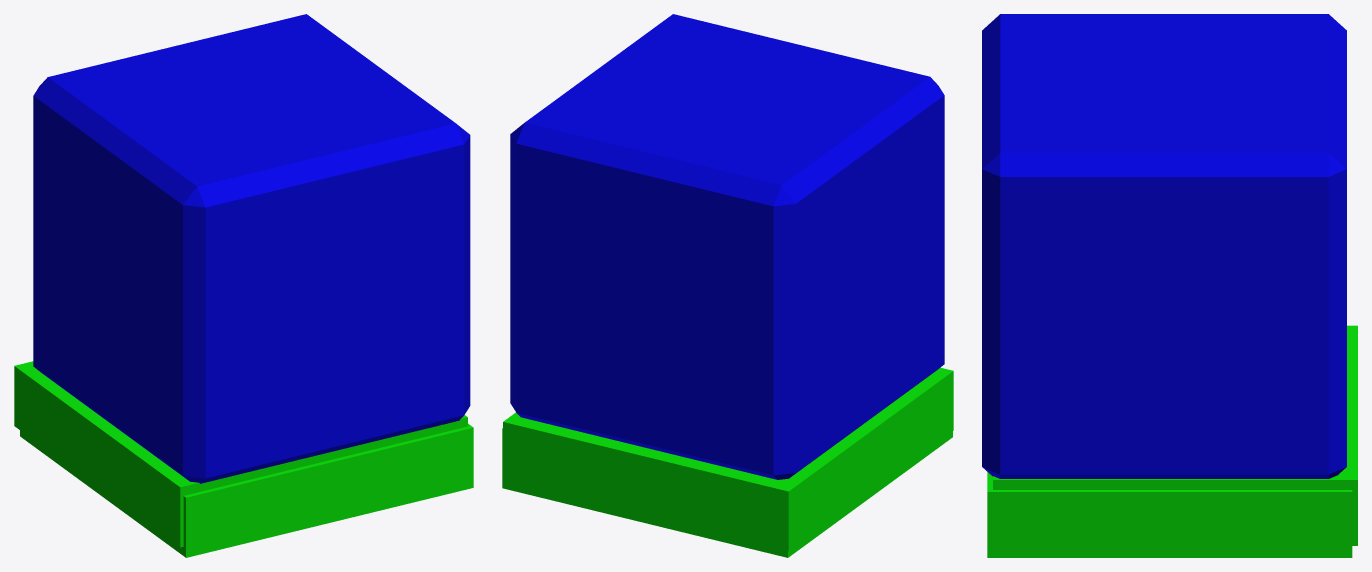
File: Wall.fbx
The picture shows the model from 3 angles, left to right: view 1: azimuth 30°, elevation 25°; view 2: azimuth 150°, elevation 25°; view 3: azimuth 270°, elevation 25°; orthographic projection. The views are drawn at different scales.
Parts seen in each view (by area): view 1: pCube3, pCube1; view 2: pCube3, pCube1; view 3: pCube3, pCube1.
Boxes of the visible parts, left/top/right/bottom form: pCube3: left=20, top=14, right=473, bottom=557; pCube1: left=14, top=361, right=467, bottom=547; pCube3: left=502, top=14, right=952, bottom=557; pCube1: left=503, top=367, right=953, bottom=551; pCube3: left=982, top=14, right=1352, bottom=557; pCube1: left=993, top=325, right=1357, bottom=545.
Bounding box in the file's own units: 1.02 × 1.21 × 1.03.
